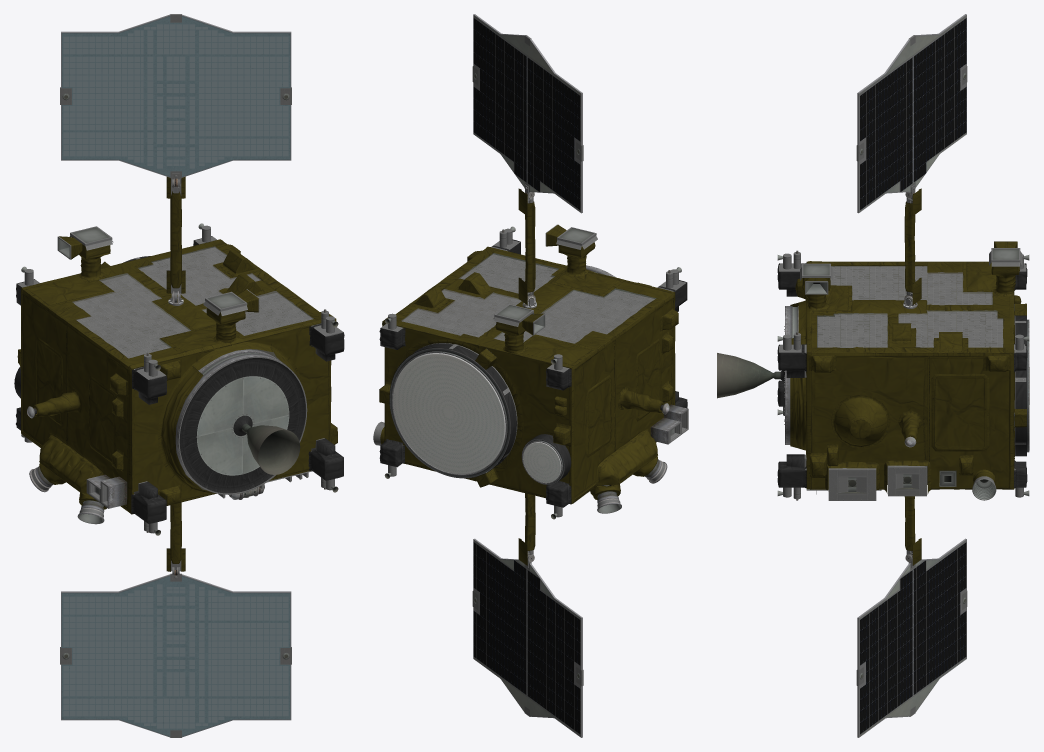
File: akatsuki.obj
3 views of the same model, side by side, from view 1: azimuth 30°, elevation 25°; view 2: azimuth 150°, elevation 25°; view 3: azimuth 270°, elevation 25° (orthographic). The views are drawn at different scales.
Size of the model in its own units: 22.16 by 51.6 by 21.58.
6 materials, 6 textured.
